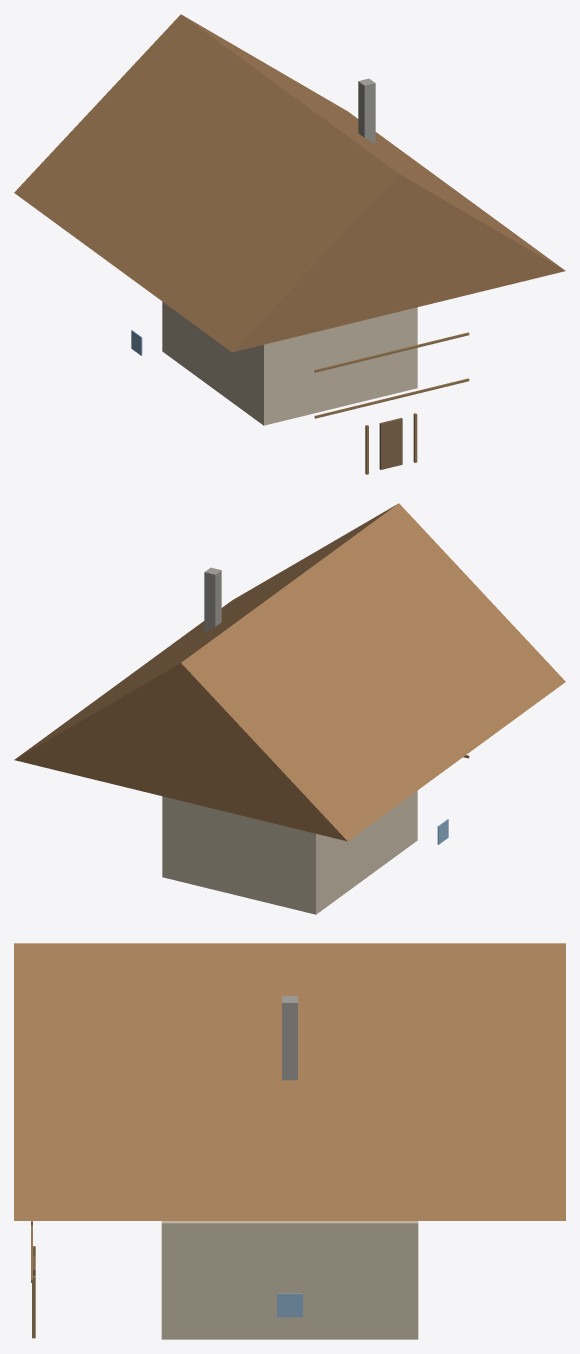
File: medieval_tavern.glb
The picture shows the model from 3 angles, top to bottom: view 1: azimuth 30°, elevation 25°; view 2: azimuth 150°, elevation 25°; view 3: azimuth 270°, elevation 25°; orthographic projection. The views are drawn at different scales.
Parts seen in each view (by area): view 1: medieval_tavern_roof, medieval_tavern_walls, medieval_tavern_door, medieval_tavern_chimney, medieval_tavern_beam, medieval_tavern_beam.001; view 2: medieval_tavern_roof, medieval_tavern_walls, medieval_tavern_chimney; view 3: medieval_tavern_roof, medieval_tavern_walls, medieval_tavern_chimney, medieval_tavern_window.001.
Part boxes in pixels (box(x1,y1,x2,y2)): medieval_tavern_roof: box(14, 14, 565, 352); medieval_tavern_walls: box(162, 301, 417, 425); medieval_tavern_door: box(379, 418, 402, 469); medieval_tavern_chimney: box(358, 78, 375, 143); medieval_tavern_beam: box(314, 378, 469, 418); medieval_tavern_beam.001: box(314, 332, 469, 372); medieval_tavern_roof: box(14, 503, 565, 841); medieval_tavern_walls: box(162, 790, 417, 914); medieval_tavern_chimney: box(204, 567, 221, 632); medieval_tavern_roof: box(14, 943, 565, 1220); medieval_tavern_walls: box(161, 1221, 418, 1339); medieval_tavern_chimney: box(282, 996, 297, 1080); medieval_tavern_window.001: box(277, 1293, 302, 1317).
Size of the model in its own units: 7.6 by 6.52 by 8.6.
